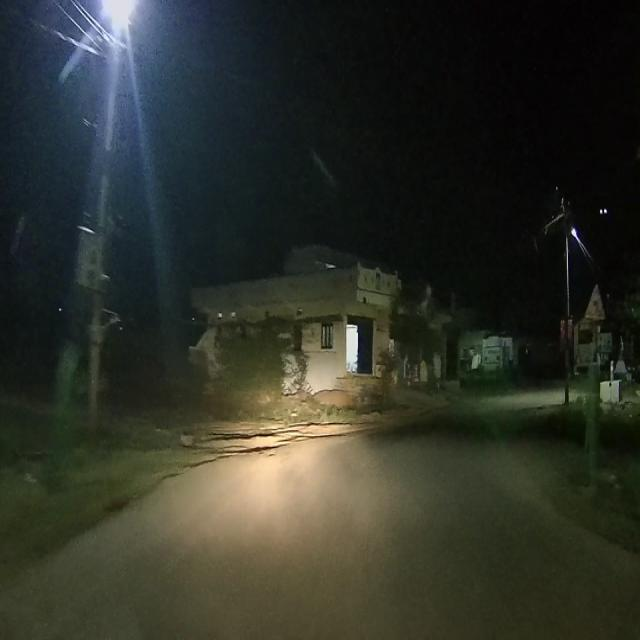left-hand-curve: (582, 278, 604, 324)
